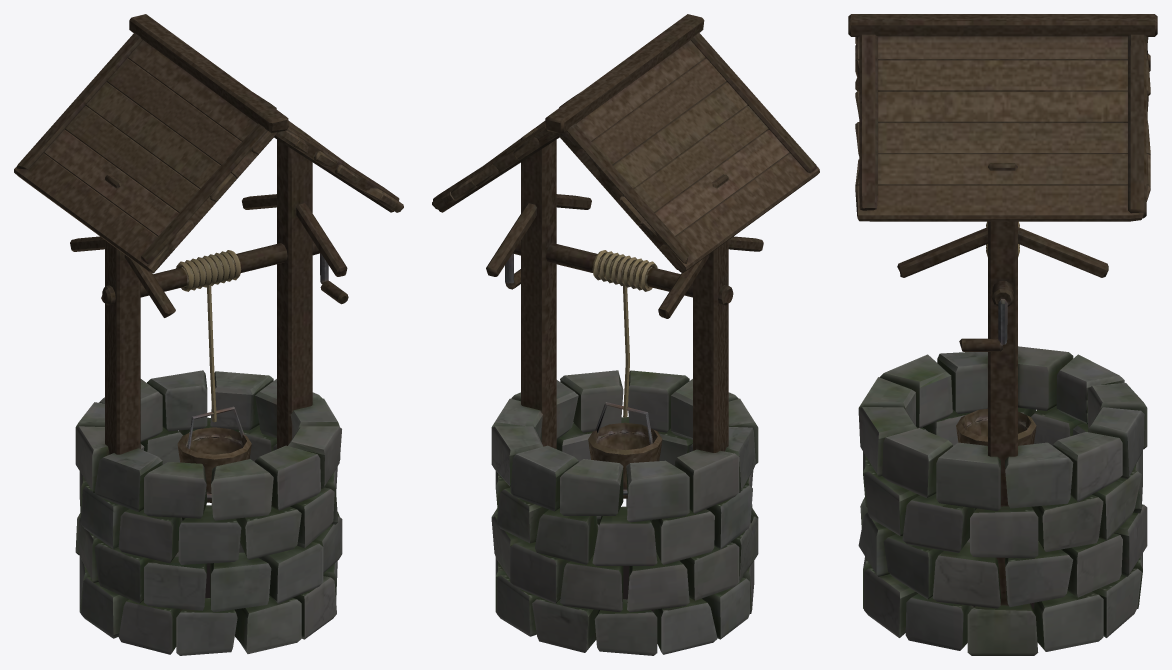
The model's file is well.glb.
3 views of the same model, side by side, from view 1: azimuth 30°, elevation 25°; view 2: azimuth 150°, elevation 25°; view 3: azimuth 270°, elevation 25° (orthographic). The views are drawn at different scales.
Parts seen in each view (by area): view 1: well; view 2: well; view 3: well.
Part boxes in pixels (x1=…): well: x1=14, y1=14, x2=403, y2=655; well: x1=432, y1=14, x2=819, y2=655; well: x1=848, y1=14, x2=1157, y2=655.
Size of the model in its own units: 0.955 by 1.91 by 0.92.
Materials: 1 (1 with a texture image).
